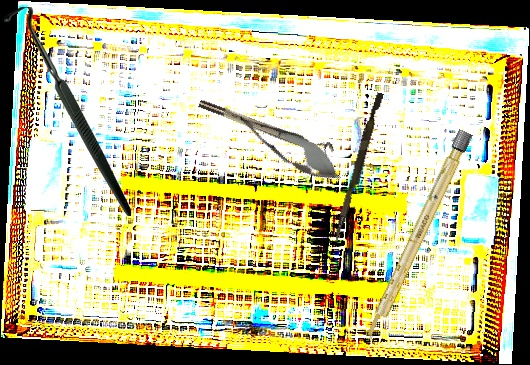Fixation Ring: (197, 91, 336, 163)
Hook Surgical: (4, 7, 131, 216)
Micro Scissor: (214, 94, 350, 192)
Pusher: (333, 91, 384, 244)
Scalpel Handle: (363, 129, 473, 342)
